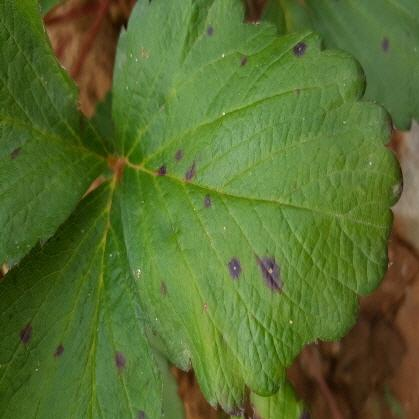Leaf Spot: (111, 0, 404, 415), (0, 176, 185, 418), (0, 0, 116, 277), (257, 0, 418, 132)
